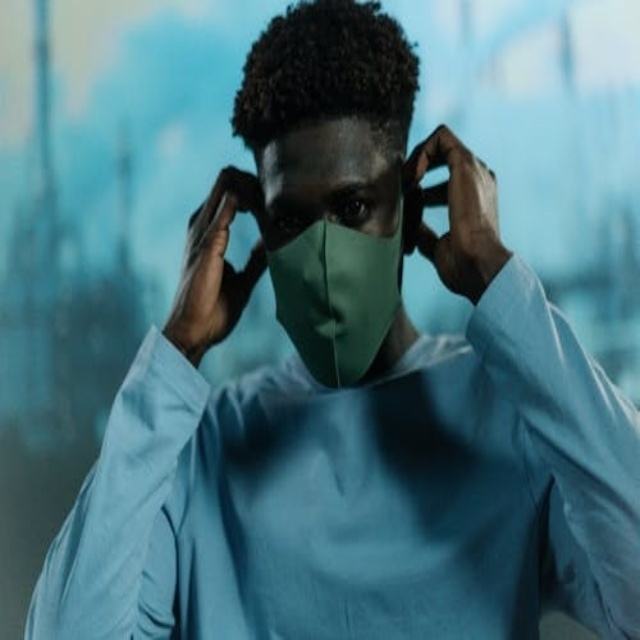Mascara: (264, 172, 405, 388)
Sin_gafas: (266, 175, 380, 244)
Sin_guantes: (410, 113, 508, 283), (174, 165, 265, 346)
